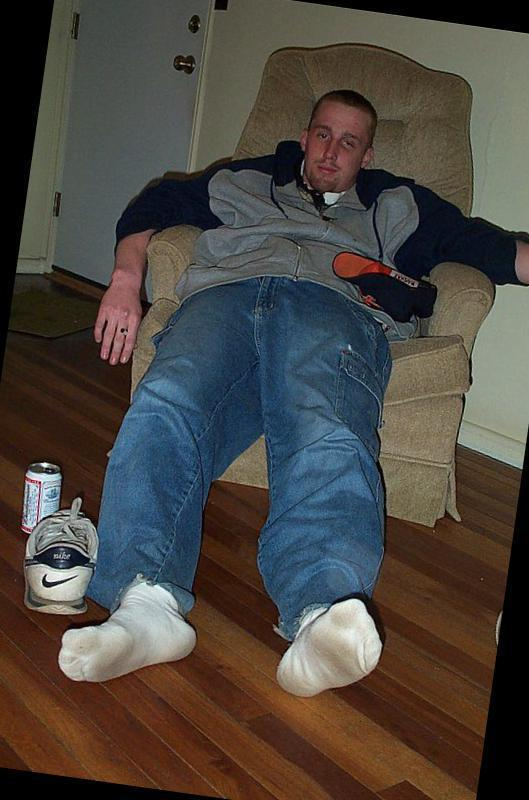Drunk: (304, 105, 367, 185)
